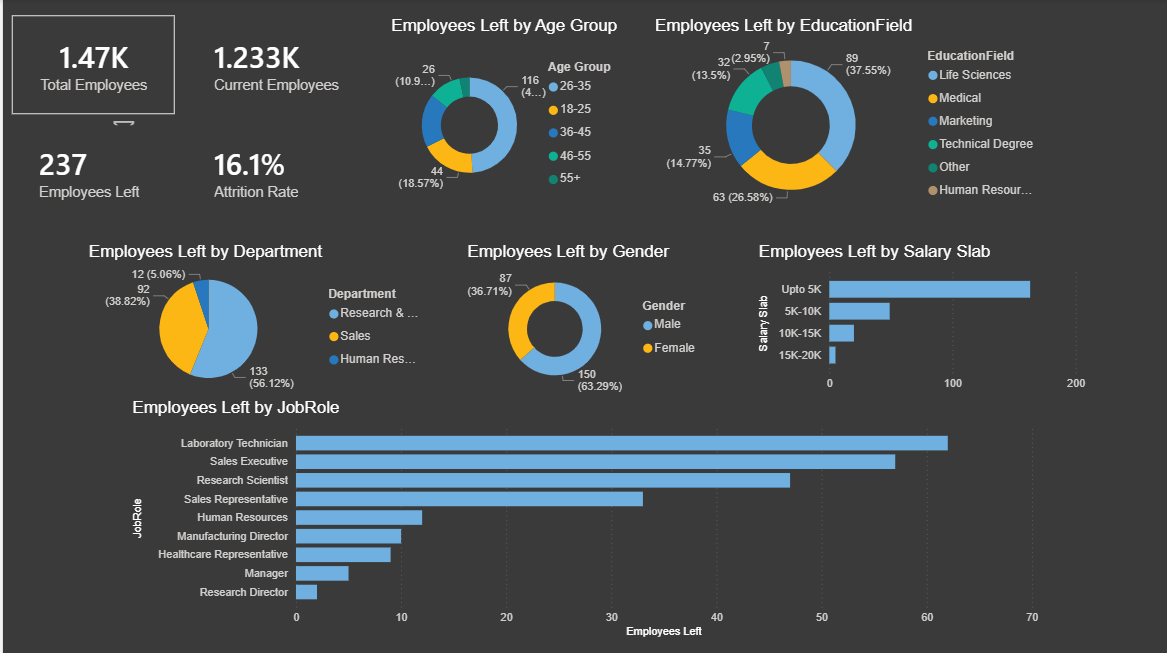

The page's visual inventory and layout, read from the dashboard file:
{"tool":"powerbi","page":{"name":"Page 1","canvas":[1280,720],"ordinal":0},"visuals":[{"type":"cardVisual","fields":{"Data":["HR.Total Employees"]},"box":[9.6,17.8,178.4,108.4],"z":0},{"type":"cardVisual","fields":{"Data":["HR.Employees Left"]},"box":[9.6,138.6,178.4,100.2],"z":1000},{"type":"cardVisual","fields":{"Data":["HR.Current Employees"]},"box":[201.7,17.8,199,108.4],"z":2000},{"type":"cardVisual","fields":{"Data":["HR.Attrition Rate"]},"box":[201.7,138.6,199,100.2],"z":3000},{"type":"pieChart","fields":{"Category":["HR.Department"],"Y":["HR.Employees Left"]},"box":[89.2,266.2,387,171.5],"z":4000},{"type":"clusteredBarChart","fields":{"Category":["HR.JobRole"],"Y":["HR.Employees Left"]},"box":[137.2,437.7,1004.5,267.6],"z":5000},{"type":"donutChart","fields":{"Category":["HR.Age Group"],"Y":["HR.Employees Left"]},"box":[421.3,17.8,269,220.9],"z":6000},{"type":"barChart","fields":{"Category":["HR.Salary Slab"],"Y":["HR.Employees Left"]},"box":[824.7,266.2,369.1,171.5],"z":7000},{"type":"donutChart","fields":{"Category":["HR.EducationField"],"Y":["HR.Employees Left"]},"box":[710.8,17.8,437.7,220.9],"z":8000},{"type":"donutChart","fields":{"Category":["HR.Gender"],"Y":["HR.Employees Left"]},"box":[505,266.2,269,171.5],"z":9000}]}

Visuals, with their boxes in screenshot pixels (x1, y1, x2, y2), scaled from the page's 1280x720 canvas onto the 1167x653 screenshot:
cardVisual - HR.Total Employees: (left=9, top=16, right=171, bottom=114)
cardVisual - HR.Employees Left: (left=9, top=126, right=171, bottom=217)
cardVisual - HR.Current Employees: (left=184, top=16, right=365, bottom=114)
cardVisual - HR.Attrition Rate: (left=184, top=126, right=365, bottom=217)
pieChart - HR.Department x HR.Employees Left: (left=81, top=241, right=434, bottom=397)
clusteredBarChart - HR.JobRole x HR.Employees Left: (left=125, top=397, right=1041, bottom=640)
donutChart - HR.Age Group x HR.Employees Left: (left=384, top=16, right=629, bottom=216)
barChart - HR.Salary Slab x HR.Employees Left: (left=752, top=241, right=1088, bottom=397)
donutChart - HR.EducationField x HR.Employees Left: (left=648, top=16, right=1047, bottom=216)
donutChart - HR.Gender x HR.Employees Left: (left=460, top=241, right=706, bottom=397)
